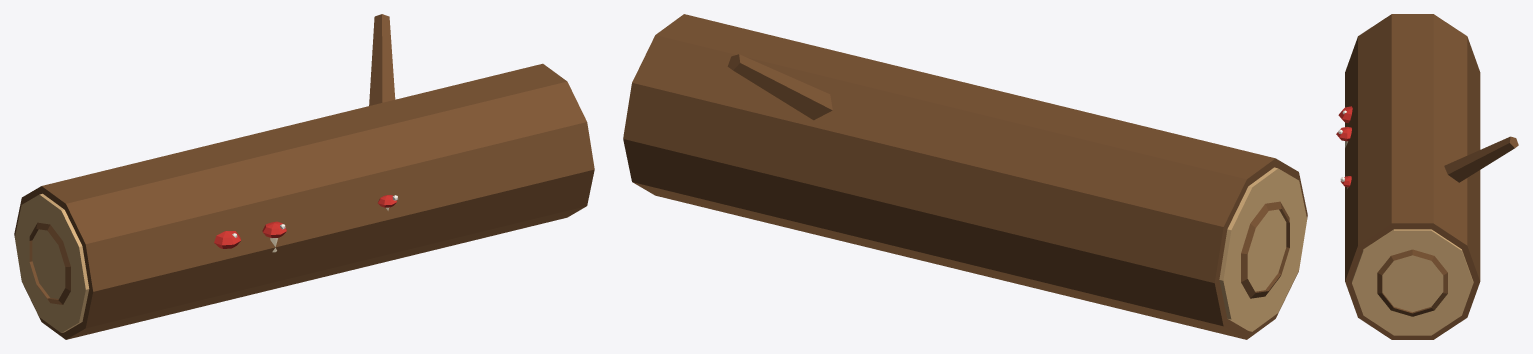
Rendered from nat_log_v01.glb.
3 views of the same model, side by side, from view 1: azimuth 30°, elevation 25°; view 2: azimuth 150°, elevation 25°; view 3: azimuth 270°, elevation 25° (orthographic). The views are drawn at different scales.
Visible parts, largest first — view 1: log; view 2: log; view 3: log.
Boxes of the visible parts, x1,y1,x2,y2 form: log: (14, 14, 594, 339); log: (623, 14, 1307, 339); log: (1336, 14, 1518, 339).
Bounding box in the file's own units: 2.26 × 0.7594 × 0.8113.
